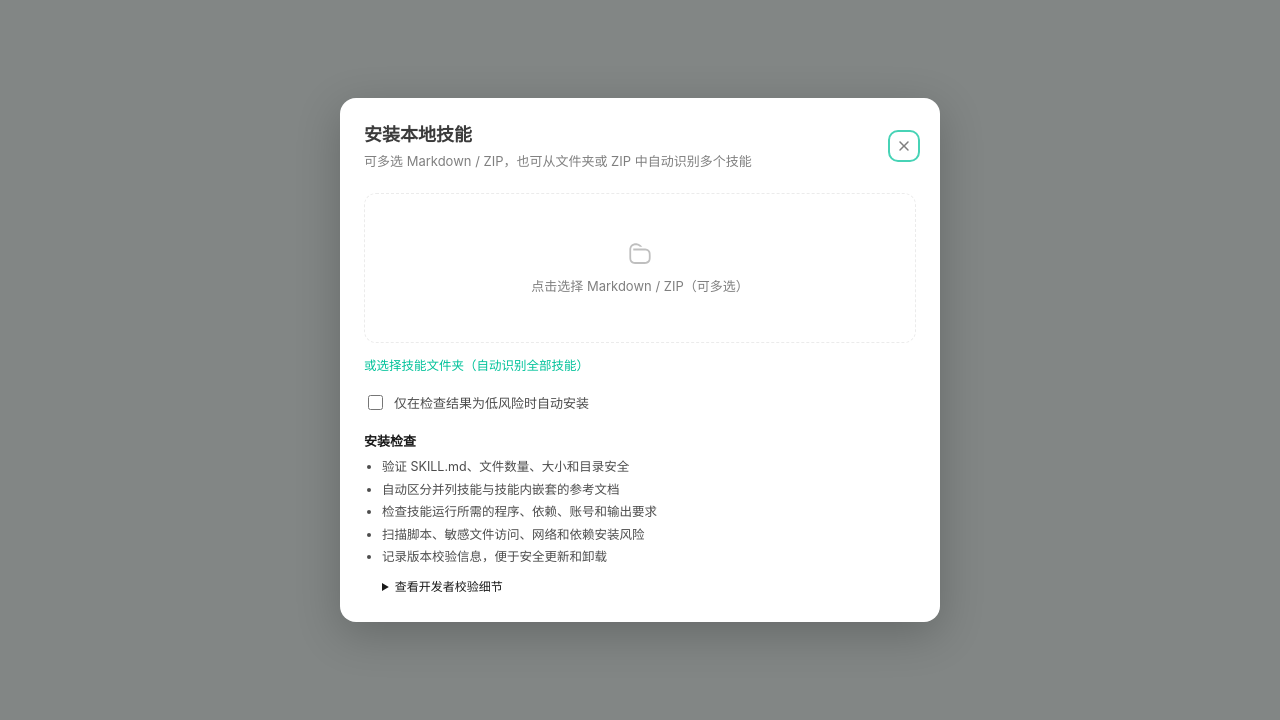
Scenario: ImportSkillModal — 列表型批量安装 › 单个 inspect 失败不会阻塞其它行,失败行展示错误信息
This screenshot has width=1280, height=720.
Click the button with aria-label "选择 Markdown 或 ZIP 技能文件" at (640,268), box [364, 193, 916, 343]
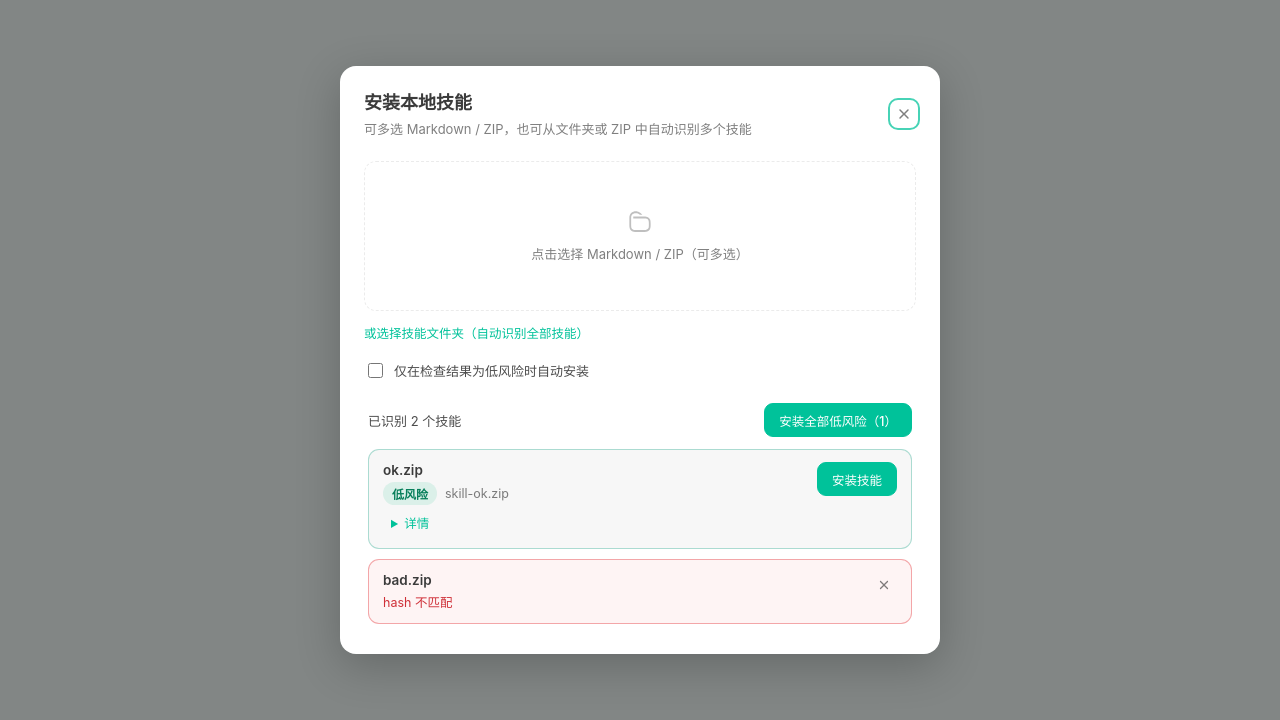
Now the text "hash 不匹配" is shown, box [383, 595, 452, 610]
Now the text "ok.zip" is shown, box [383, 462, 423, 478]
Now the text "bad.zip" is shown, box [383, 572, 432, 588]
